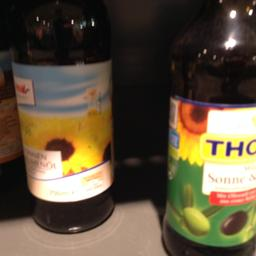oil: (7, 2, 114, 232), (159, 0, 255, 254)
